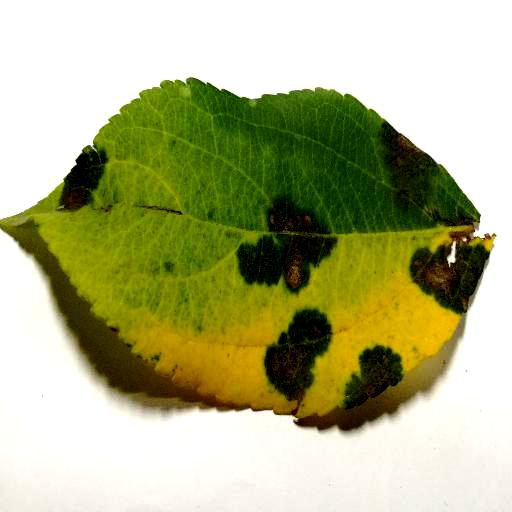Brown_Spot: (233, 189, 319, 288), (379, 124, 437, 227), (408, 243, 482, 306), (275, 320, 315, 387), (57, 149, 104, 197), (356, 348, 400, 399)
